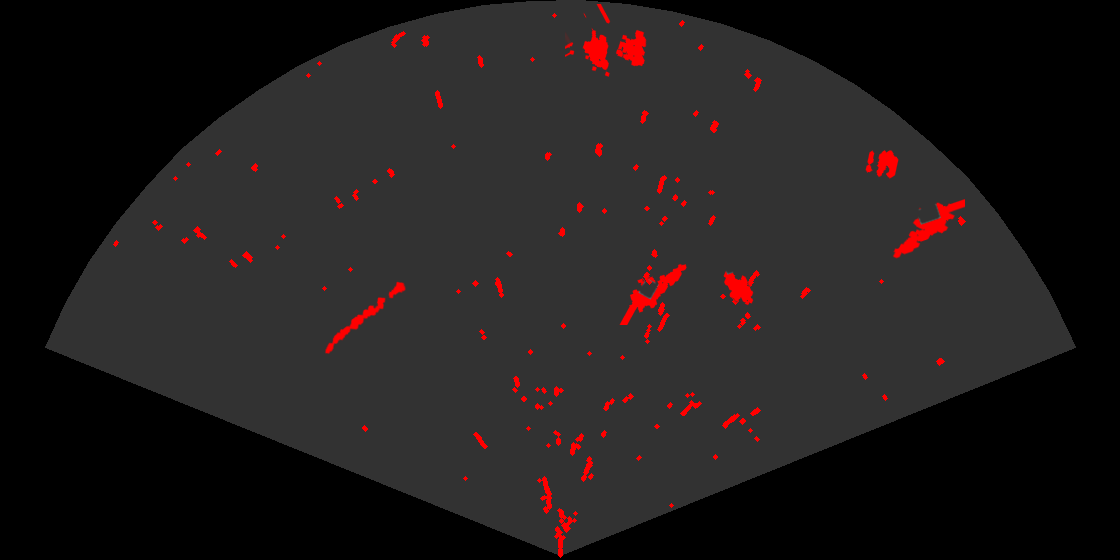AUV: (722, 270, 755, 307)
ball: (864, 149, 900, 180)
cage: (565, 4, 648, 78)
chain: (323, 280, 407, 356)
frogman: (891, 198, 965, 260), (618, 262, 688, 325)
